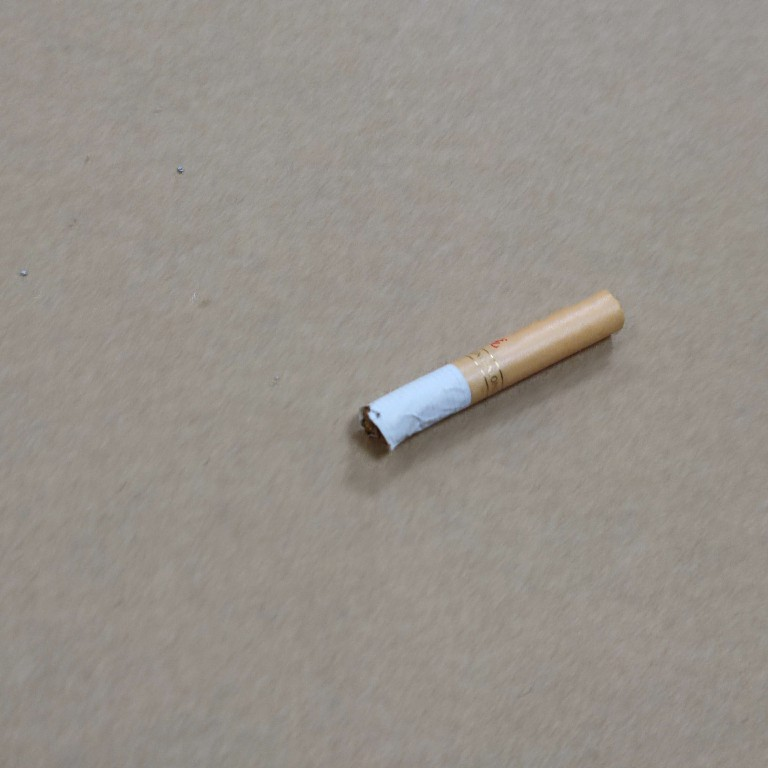cigarette: (342, 277, 636, 466)
